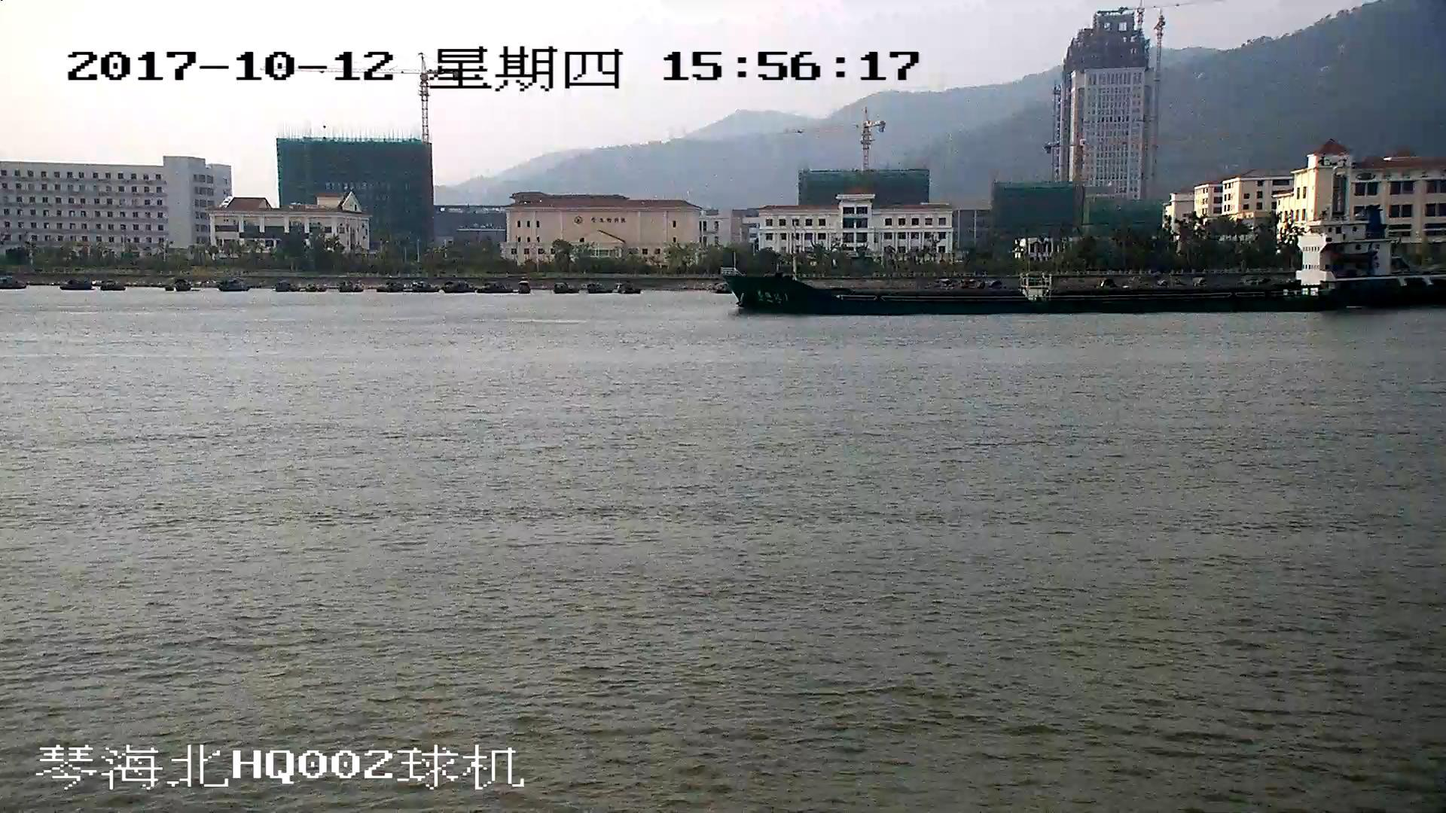general cargo ship: (721, 223, 1445, 311)
